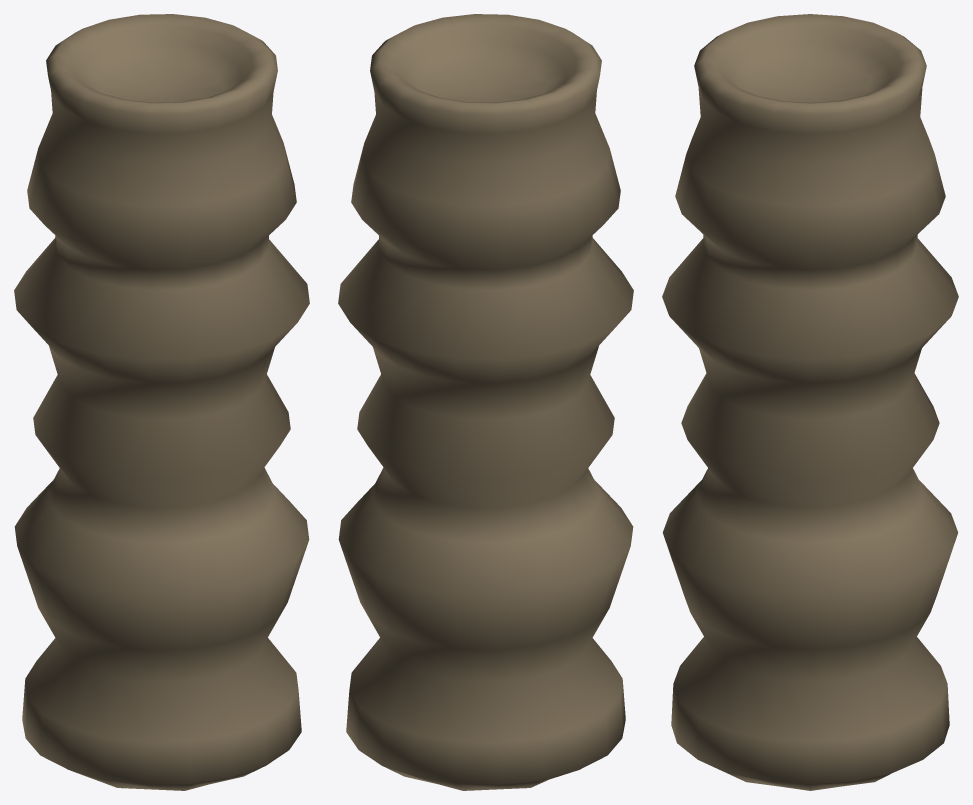
File: museum_assets_2.fbx
3 renders of one model, left to right at view 1: azimuth 30°, elevation 25°; view 2: azimuth 150°, elevation 25°; view 3: azimuth 270°, elevation 25°, orthographic.
Parts seen in each view (by area): view 1: amfora_7; view 2: amfora_7; view 3: amfora_7.
Boxes of the visible parts, left/top/right/bottom form: amfora_7: left=14, top=14, right=309, bottom=790; amfora_7: left=338, top=14, right=633, bottom=790; amfora_7: left=662, top=14, right=958, bottom=790.
Bounding box in the file's own units: 0.7206 × 1.87 × 0.7202.
